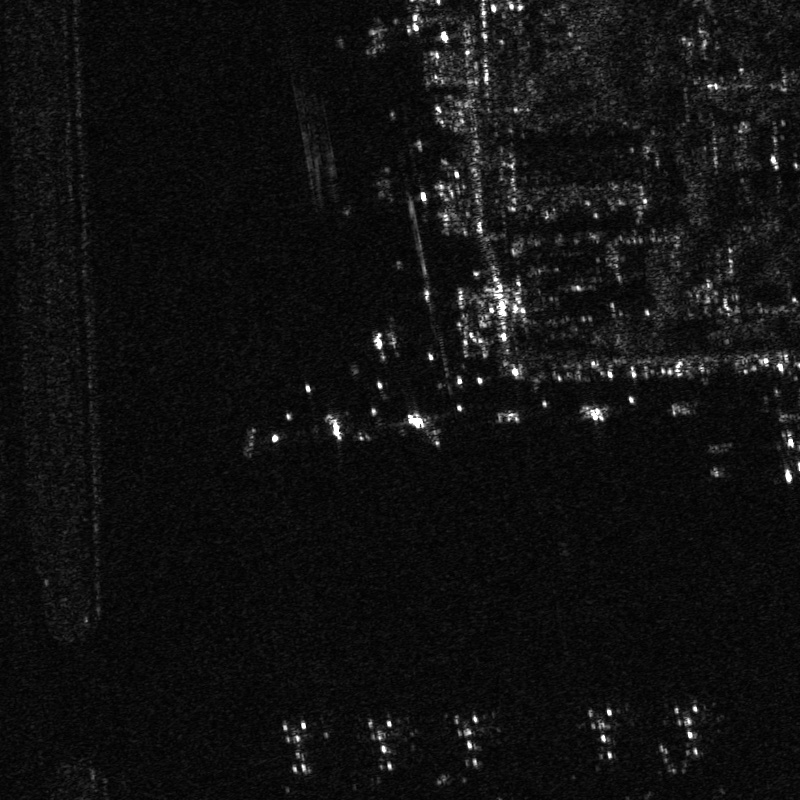ARJ21: (758, 409, 799, 486)
other: (355, 713, 404, 781), (448, 707, 496, 771), (665, 699, 713, 763), (576, 705, 626, 764), (278, 714, 317, 778)
